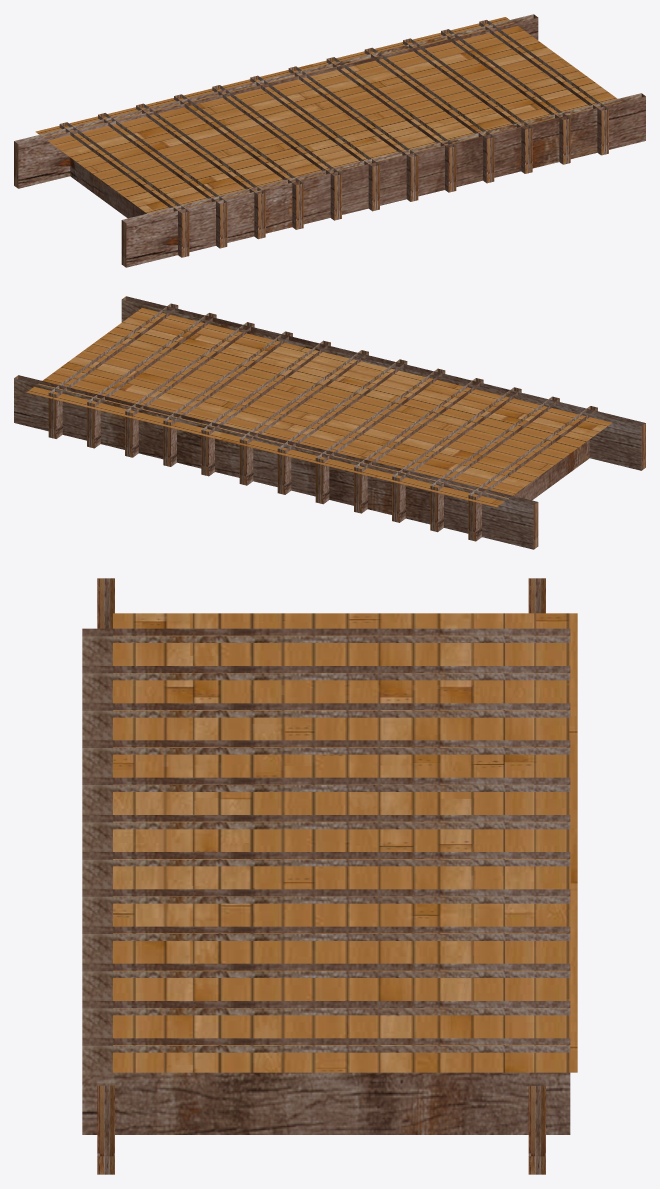
The model's file is Ceiling_SP_NArrow.fbx.
3 renders of one model, top to bottom at view 1: azimuth 30°, elevation 25°; view 2: azimuth 150°, elevation 25°; view 3: azimuth 270°, elevation 25°, orthographic. The views are drawn at different scales.
Parts seen in each view (by area): view 1: Ceiling Bit_Narrow; view 2: Ceiling Bit_Narrow; view 3: Ceiling Bit_Narrow.
Boxes of the visible parts, bbox=[...] form: Ceiling Bit_Narrow: bbox=[14, 14, 645, 267]; Ceiling Bit_Narrow: bbox=[14, 296, 645, 549]; Ceiling Bit_Narrow: bbox=[82, 578, 577, 1174].
Bounding box in the file's own units: 761 × 62.4 × 314.
